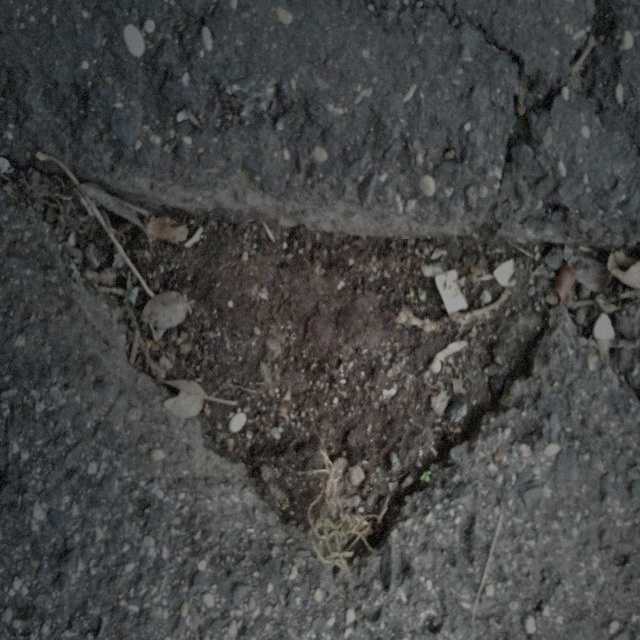pothole: (26, 142, 574, 574)
